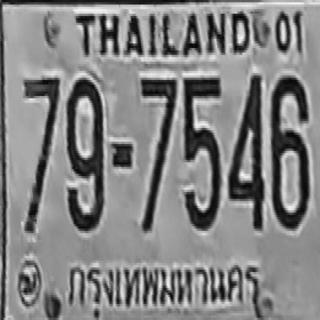N04: (227, 73, 264, 228)
N05: (183, 75, 221, 229)
N06: (271, 73, 309, 228)
N07: (23, 75, 60, 233), (140, 75, 177, 231)
N09: (65, 75, 104, 231)
P04: (66, 258, 263, 314)
